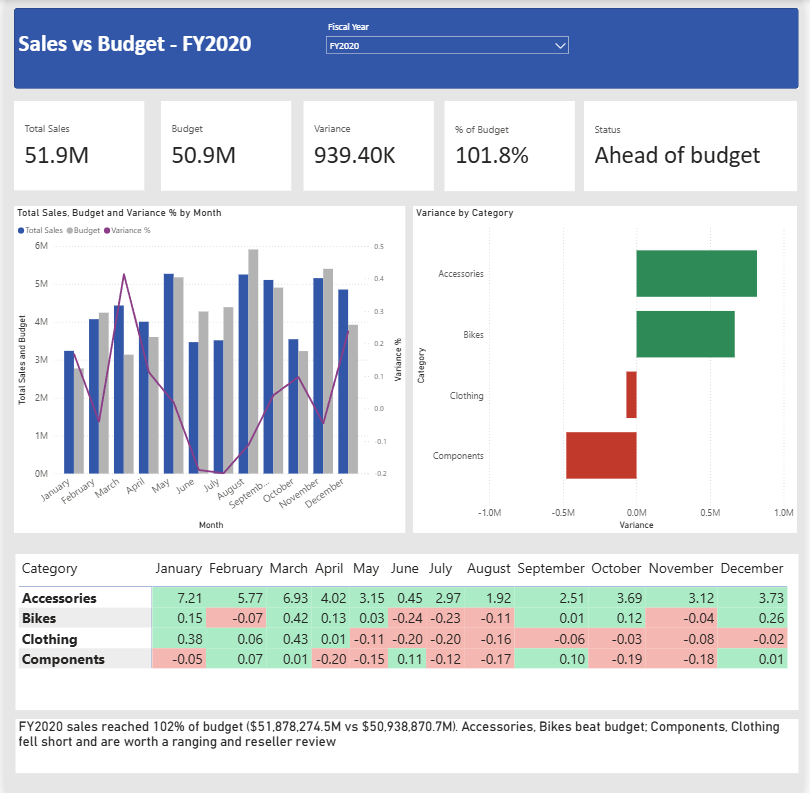

The page's visual inventory and layout, read from the dashboard file:
{"tool":"powerbi","page":{"name":"Sales vs Budget","canvas":[1300,1300],"ordinal":2},"visuals":[{"type":"shape","box":[14,15,1276.7,131.4],"z":0},{"type":"textbox","box":[16.7,48.3,398.3,85],"z":1000},{"type":"cardVisual","fields":{"Data":["_Measures.Total Sales"]},"box":[14.8,166.3,212,145],"z":2000},{"type":"cardVisual","fields":{"Data":["Sum(Budget.Budget Amount)"]},"box":[253.8,166,212,145.9],"z":3000},{"type":"cardVisual","fields":{"Data":["_Measures.Variance"]},"box":[485.7,166,212,145.9],"z":4000},{"type":"cardVisual","fields":{"Data":["_Measures.% of Budget"]},"box":[715.1,166,212.1,146.4],"z":5000},{"type":"cardVisual","fields":{"Data":["_Measures.Status"]},"box":[942.1,166,346.6,146.4],"z":6000},{"type":"lineClusteredColumnComboChart","fields":{"Category":["Date.Month.Variation.Date Hierarchy.Month"],"Y":["Sum(Sales.Sales Amount)","Sum(Budget.Budget Amount)"],"Y2":["_Measures.Variance %"]},"box":[14.6,336.8,637,532.1],"z":7000},{"type":"clusteredBarChart","fields":{"Category":["Category.Category"],"Y":["_Measures.Variance"]},"box":[663.8,336.8,624.8,532.1],"z":8000},{"type":"pivotTable","fields":{"Columns":["Date.Month.Variation.Date Hierarchy.Month"],"Rows":["Category.Category"],"Values":["_Measures.Variance %"]},"box":[17.1,903,1274,253.8],"z":9000},{"type":"slicer","fields":{"Values":["Date.Fiscal Year"]},"box":[512.5,29.3,414.9,61],"z":10000},{"type":"textbox","box":[16,1172,1274,88],"z":11000}]}

Visuals, with their boxes in screenshot pixels (x1, y1, x2, y2), scaled from the page's 1300x1300 canvas onto the 810x793 screenshot:
shape: 9, 9, 804, 89
textbox: 10, 29, 259, 81
cardVisual - _Measures.Total Sales: 9, 101, 141, 190
cardVisual - Sum(Budget.Budget Amount): 158, 101, 290, 190
cardVisual - _Measures.Variance: 303, 101, 435, 190
cardVisual - _Measures.% of Budget: 446, 101, 578, 191
cardVisual - _Measures.Status: 587, 101, 803, 191
lineClusteredColumnComboChart - Date.Month.Variation.Date Hierarchy.Month x Sum(Sales.Sales Amount): 9, 205, 406, 530
clusteredBarChart - Category.Category x _Measures.Variance: 414, 205, 803, 530
pivotTable - Date.Month.Variation.Date Hierarchy.Month x Category.Category: 11, 551, 804, 706
slicer - Date.Fiscal Year: 319, 18, 578, 55
textbox: 10, 715, 804, 769
